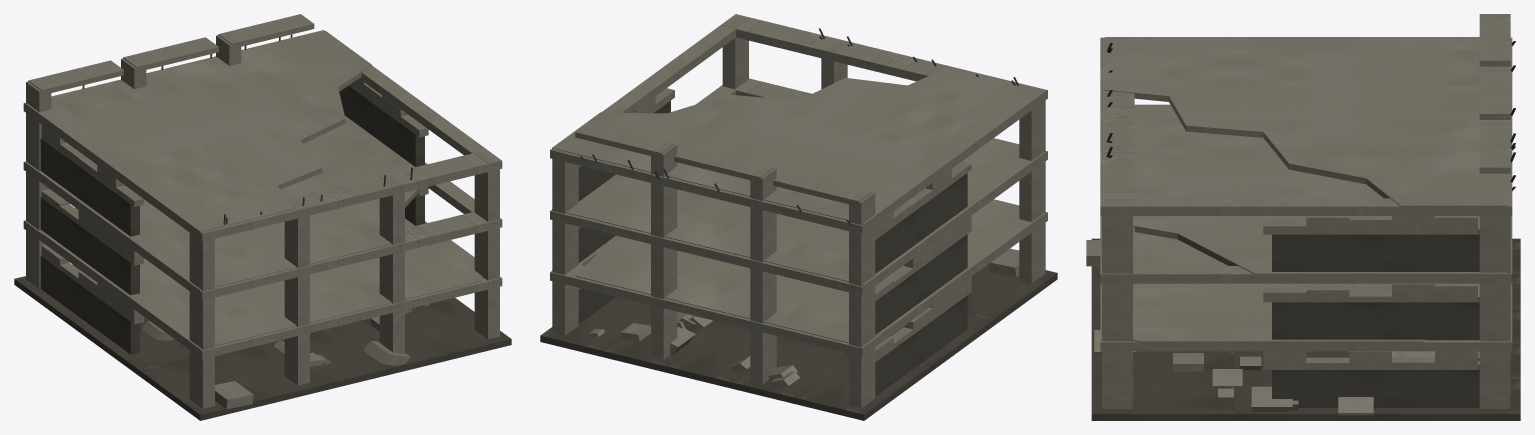
File: ash-ruin.glb
The picture shows the model from 3 angles, left to right: view 1: azimuth 30°, elevation 25°; view 2: azimuth 150°, elevation 25°; view 3: azimuth 270°, elevation 25°; orthographic projection. The views are drawn at different scales.
Parts seen in each view (by area): view 1: ash-ruin.001; view 2: ash-ruin.001; view 3: ash-ruin.001.
Boxes of the visible parts, x1,y1,x2,y2 form: ash-ruin.001: (14, 14, 511, 420); ash-ruin.001: (540, 14, 1057, 420); ash-ruin.001: (1086, 14, 1520, 420).
Size of the model in its own units: 7.77 by 4.81 by 8.
1 material, 1 textured.
